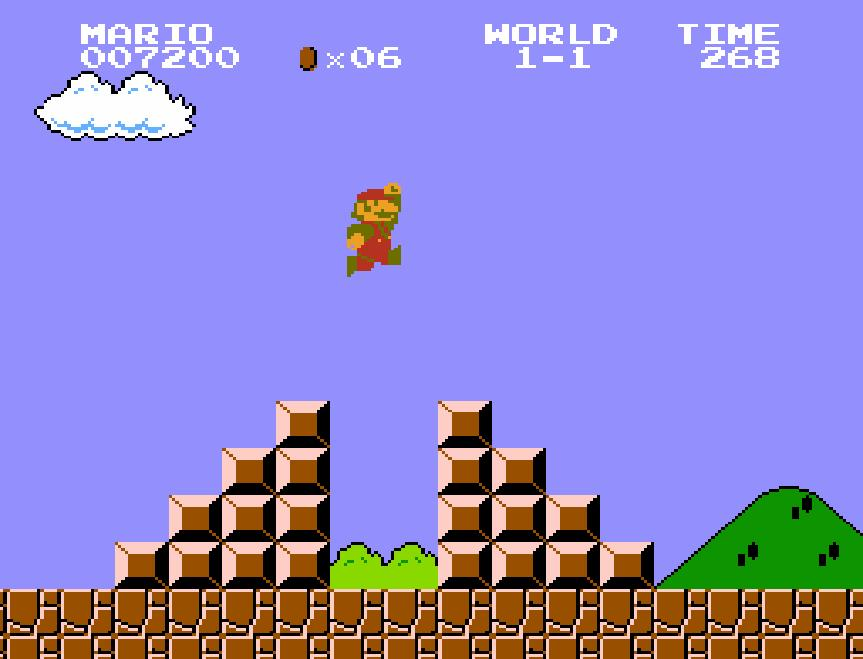big_mario: (345, 180, 403, 278)
